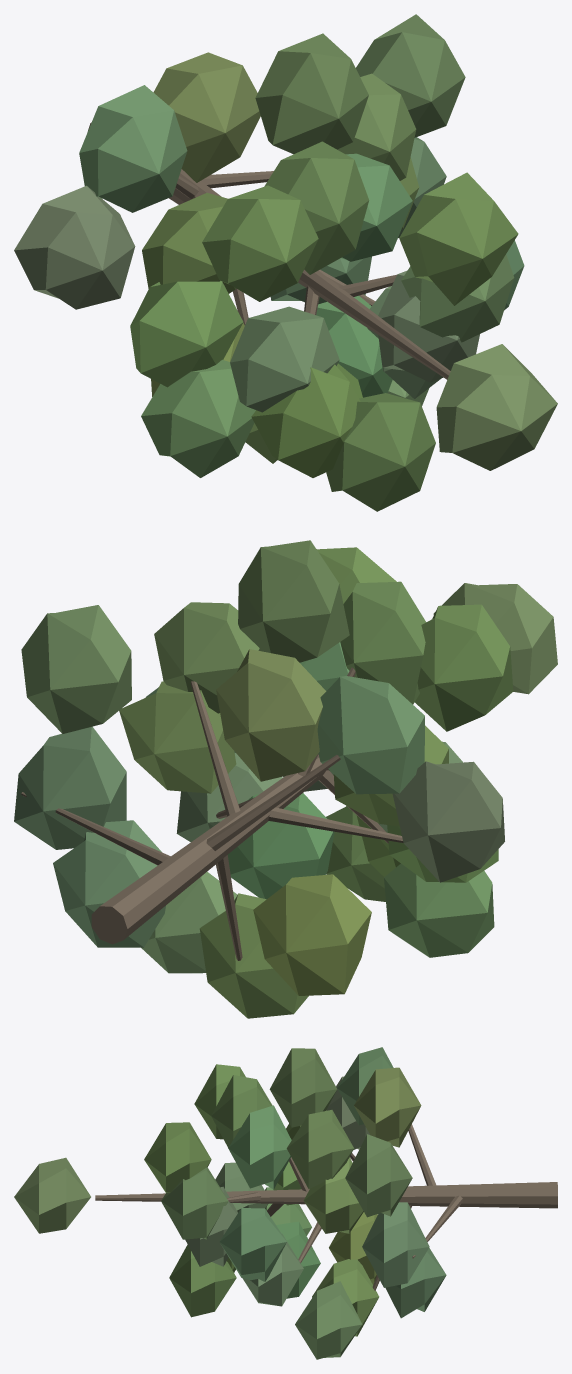
File: tree-metasequoia.glb
3 views of the same model, one above another, from view 1: azimuth 30°, elevation 25°; view 2: azimuth 150°, elevation 25°; view 3: azimuth 270°, elevation 25° (orthographic). The views are drawn at different scales.
Parts seen in each view (by area): view 1: stem; view 2: stem; view 3: stem.
Part boxes in pixels (left/top/right/bottom): stem: left=14, top=14, right=557, bottom=511; stem: left=14, top=540, right=557, bottom=1018; stem: left=14, top=1047, right=557, bottom=1359.
Bounding box in the file's own units: 7.15 × 6.54 × 11.25.
